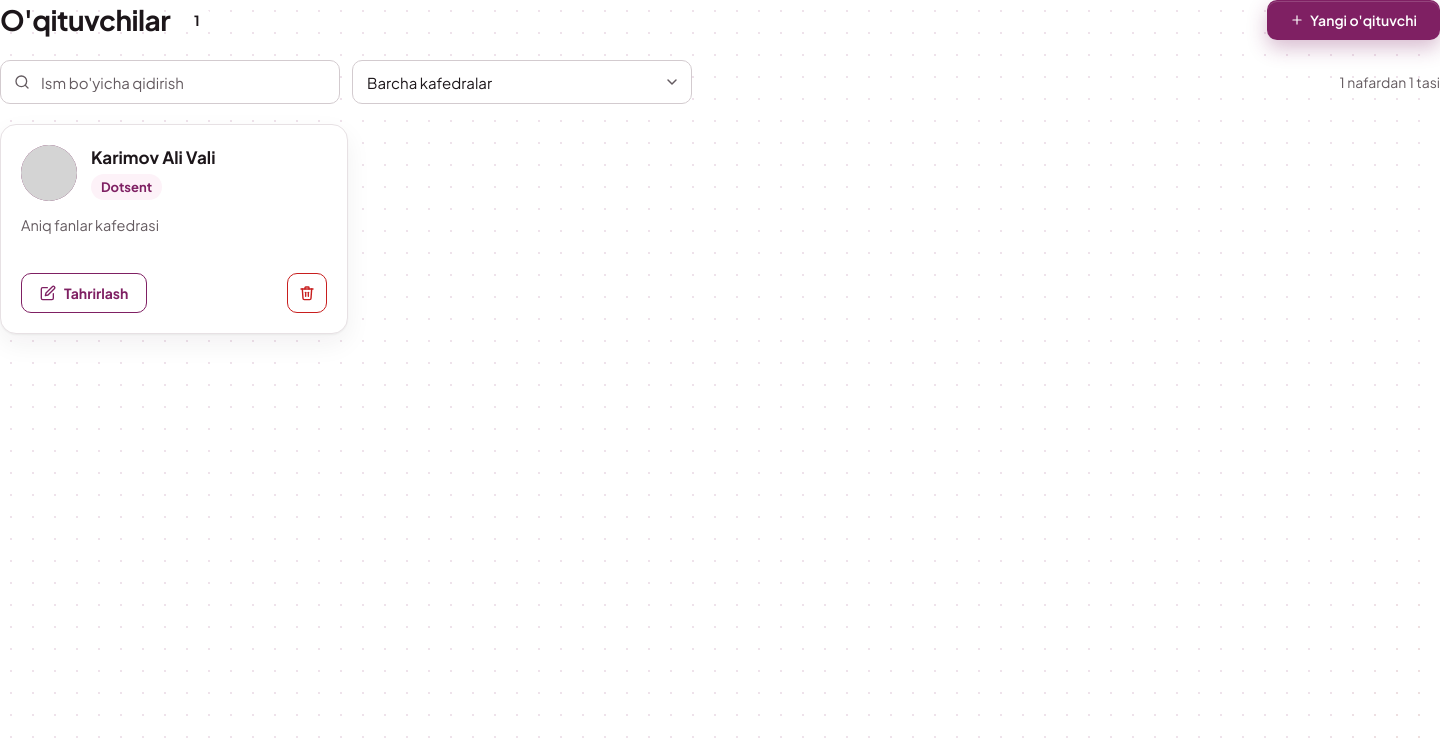
Scenario: TeachersAdmin: forma › server xatosi — forma tepasida banner, forma to'ldirilgan holda qoladi
Click the button with aria-label "Tahrirlash: Karimov Ali Vali".
click(84, 293)  # box [21,273,147,313]
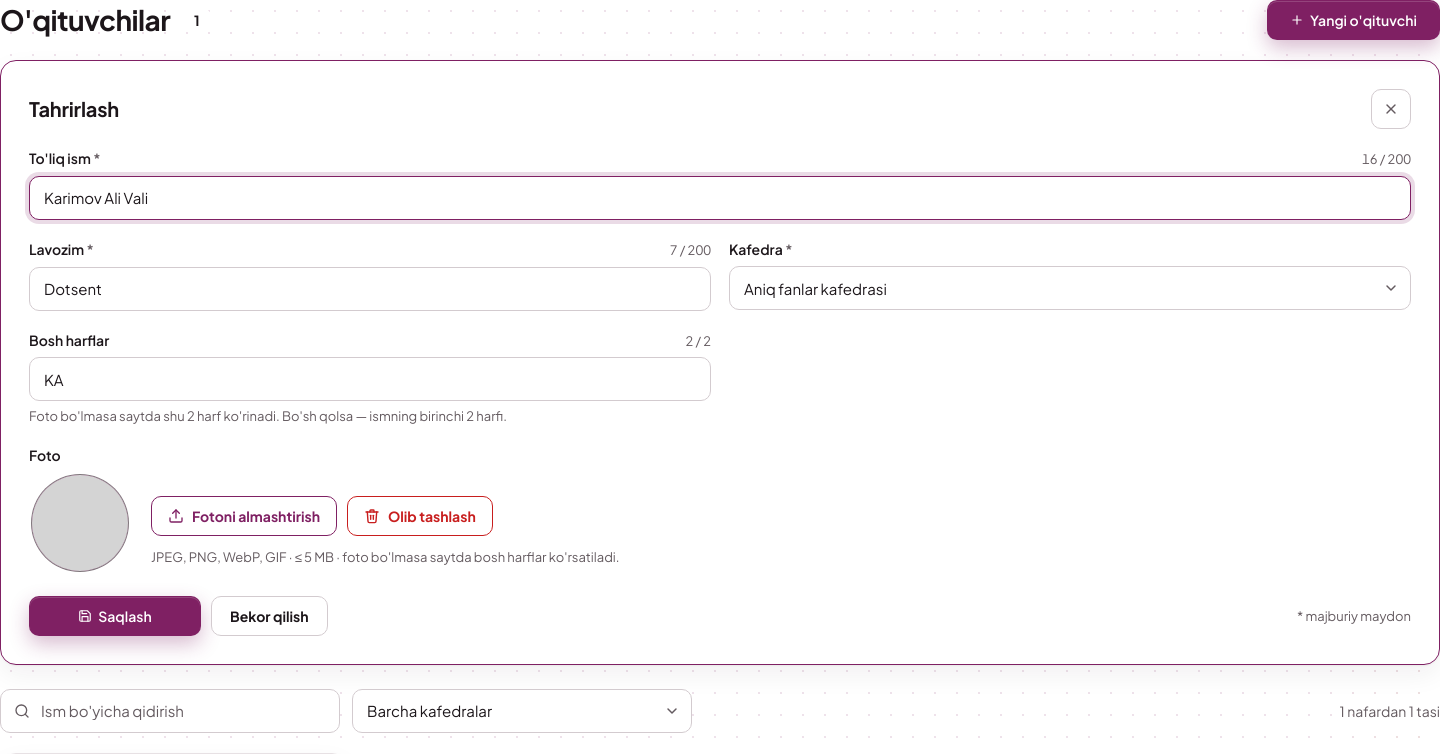
Replace the text in the field labelled "Lavozim *" with "Professor" at coordinates (370, 289), box [29,267,711,311]
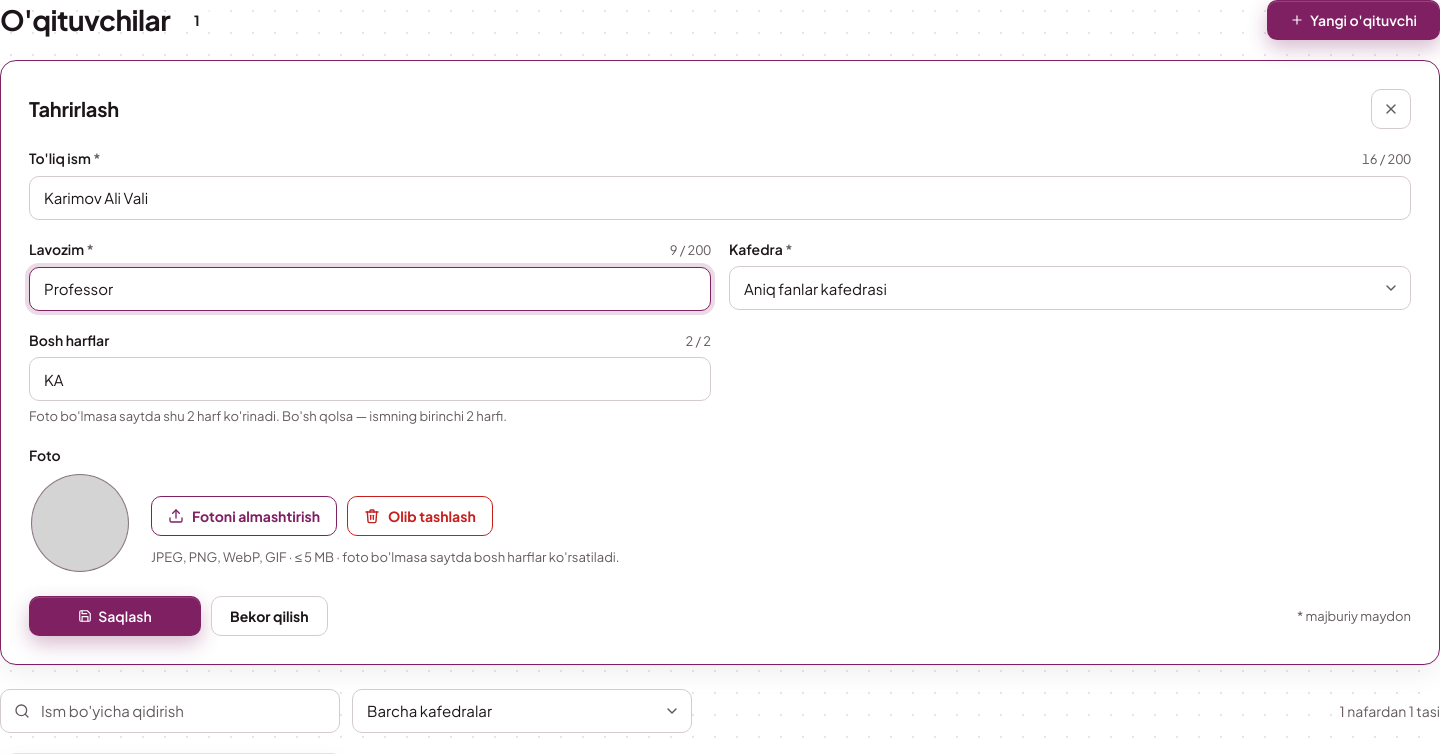
Click the button "Saqlash".
click(115, 616)  # box [29,596,201,636]
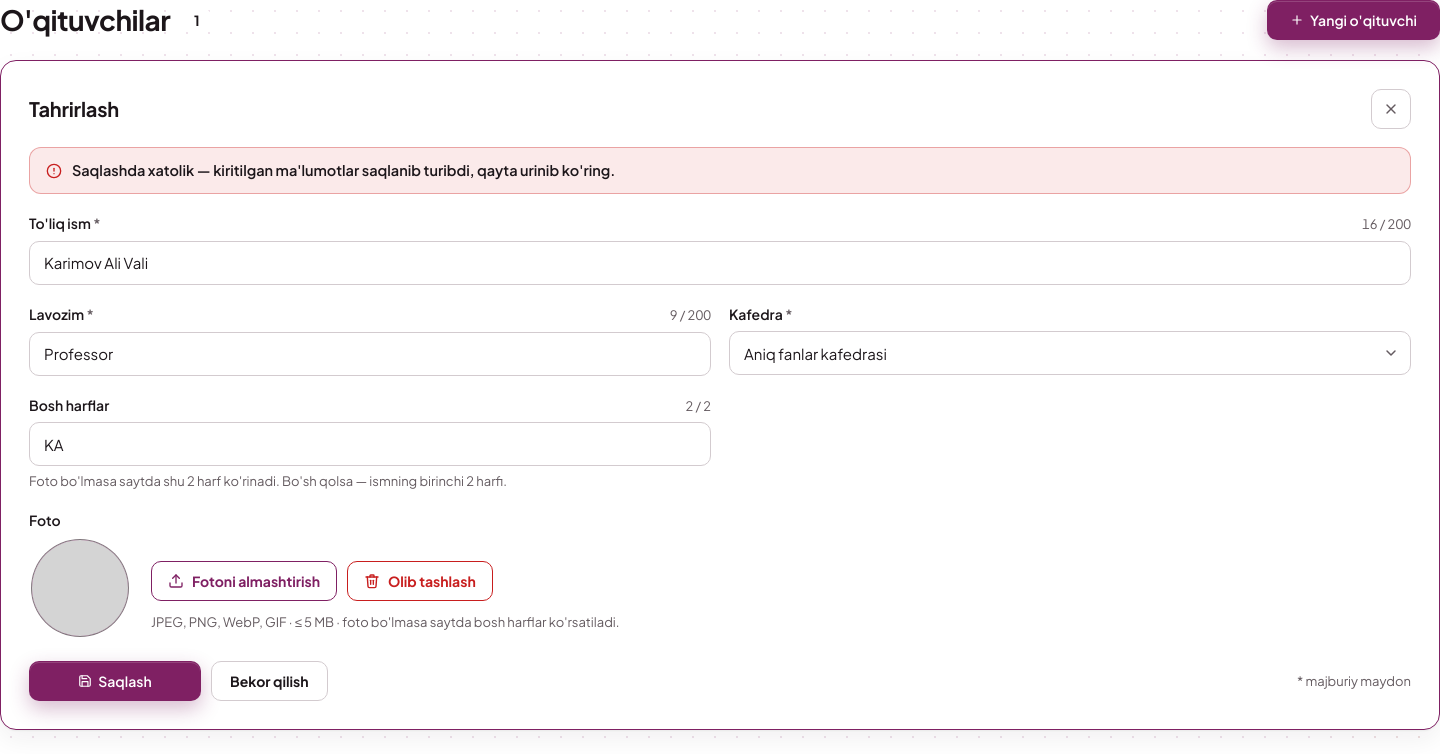
Now the button "Saqlash" is enabled, box [29,661,201,701]
Now the text "Saqlashda xatolik — kiritilgan ma'lumotlar saqlanib turibdi" is shown, box [72,161,615,179]
